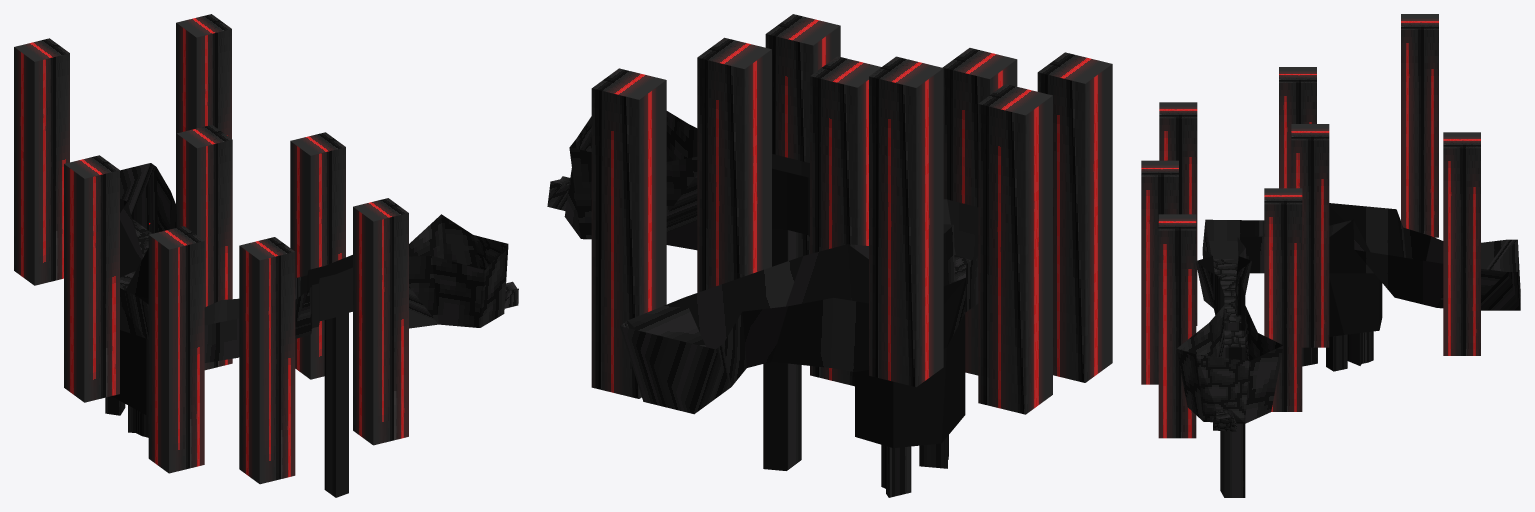
The model's file is Map.glb.
3 renders of one model, left to right at view 1: azimuth 30°, elevation 25°; view 2: azimuth 150°, elevation 25°; view 3: azimuth 270°, elevation 25°, orthographic. The views are drawn at different scales.
Parts seen in each view (by area): view 1: map, Cube.003, Cube.004, Cube.006, Cube.005, Cube, Cube.007, Cube.002, Cube.001; view 2: map, Cube, Cube.005, Cube.001, Cube.003, Cube.007, Cube.002, Cube.004, Cube.006; view 3: map, Cube.001, Cube, Cube.007, Cube.006, Cube.002, Cube.004, Cube.003, Cube.005.
Part boxes in pixels (<box>): map: <box>105,163,518,497</box>; Cube.003: <box>148,226,204,473</box>; Cube.004: <box>239,237,295,484</box>; Cube.006: <box>353,198,408,445</box>; Cube.005: <box>64,155,119,402</box>; Cube: <box>14,38,69,285</box>; Cube.007: <box>290,132,345,379</box>; Cube.002: <box>176,125,232,370</box>; Cube.001: <box>176,14,231,205</box>; map: <box>547,111,978,497</box>; Cube: <box>869,56,943,387</box>; Cube.005: <box>978,84,1052,414</box>; Cube.001: <box>591,68,666,398</box>; Cube.003: <box>1037,52,1112,382</box>; Cube.007: <box>697,37,771,292</box>; Cube.002: <box>810,56,881,386</box>; Cube.004: <box>942,48,1017,375</box>; Cube.006: <box>765,14,840,256</box>; map: <box>1176,203,1520,497</box>; Cube.001: <box>1443,132,1480,355</box>; Cube: <box>1401,14,1438,237</box>; Cube.007: <box>1264,188,1302,411</box>; Cube.006: <box>1158,214,1196,438</box>; Cube.002: <box>1291,124,1329,347</box>; Cube.004: <box>1141,160,1178,384</box>; Cube.003: <box>1159,102,1197,325</box>; Cube.005: <box>1279,67,1316,188</box>.
Bounding box in the file's own units: 344 × 339 × 303.
Materials: 4 (2 with a texture image).
